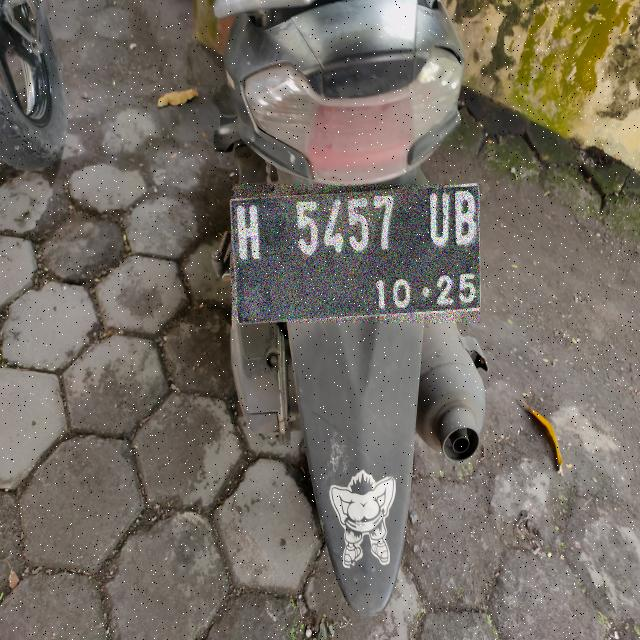plate: (232, 185, 479, 322)
